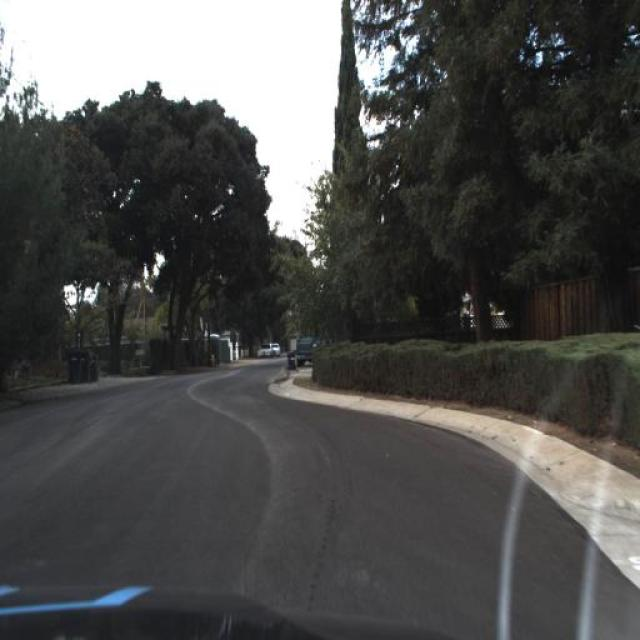car: (297, 308, 332, 368), (258, 343, 274, 358), (268, 343, 282, 358)
